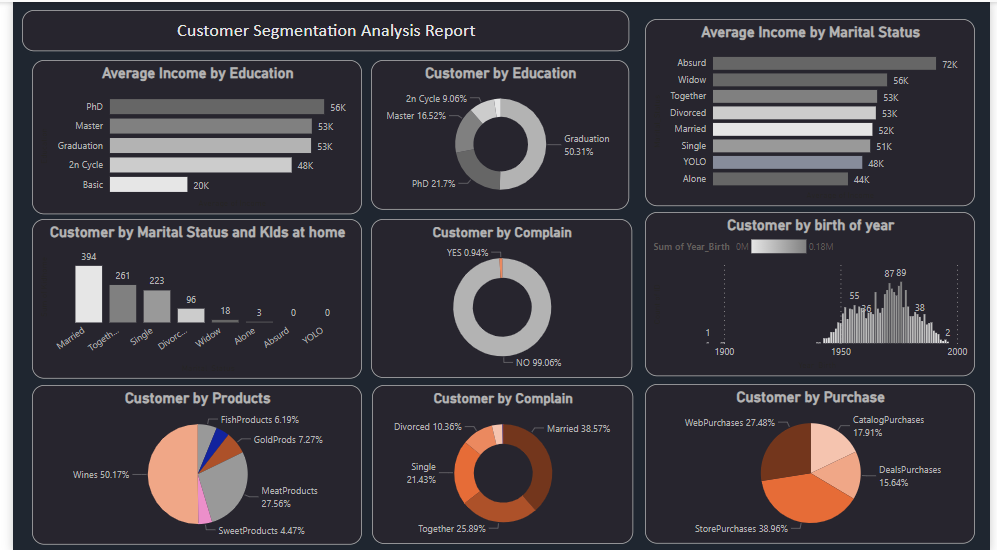

Layout of this report page (visuals, bound fields, positions):
{"tool":"powerbi","page":{"name":"Page 1","canvas":[1280,720],"ordinal":0},"visuals":[{"type":"donutChart","title":"Customer by Education","fields":{"Category":["marketing_campaign.Education"],"Y":["CountNonNull(marketing_campaign.ID)"]},"box":[468.7,75.9,337.7,196.4],"z":0},{"type":"clusteredBarChart","title":"Average Income by Marital Status","fields":{"Y":["Avg(marketing_campaign.Income)"],"Category":["marketing_campaign.Marital_Status"]},"box":[827.3,22.3,432,244.8],"z":1},{"type":"clusteredColumnChart","title":"Customer by birth of year","fields":{"Category":["marketing_campaign.Year_Birth"],"Y":["CountNonNull(marketing_campaign.ID)"]},"box":[827.3,274.9,432,214.7],"z":3},{"type":"clusteredColumnChart","title":"Customer by Marital Status and KIds at home","fields":{"Category":["marketing_campaign.Marital_Status"],"Y":["Sum(marketing_campaign.Kidhome)"]},"box":[24.9,284.1,432,209.5],"z":4},{"type":"clusteredBarChart","title":"Average Income by Education","fields":{"Category":["marketing_campaign.Education"],"Y":["Avg(marketing_campaign.Income)"]},"box":[24.9,75.9,432,201.6],"z":5},{"type":"donutChart","title":"Customer by Complain","fields":{"Y":["CountNonNull(marketing_campaign.ID)"],"Category":["marketing_campaign.Complain"]},"box":[468.7,284.1,341.7,208.1],"z":6},{"type":"pieChart","title":"Customer by Products","fields":{"Y":["Sum(marketing_campaign.MntFishProducts)","Sum(marketing_campaign.MntFruits)","Sum(marketing_campaign.MntGoldProds)","Sum(marketing_campaign.MntMeatProducts)","Sum(marketing_campaign.MntSweetProducts)","Sum(marketing_campaign.MntWines)"]},"box":[24.9,501.4,432,209.5],"z":7},{"type":"pieChart","title":"Customer by Purchase","fields":{"Y":["Sum(marketing_campaign.NumCatalogPurchases)","Sum(marketing_campaign.NumDealsPurchases)","Sum(marketing_campaign.NumStorePurchases)","Sum(marketing_campaign.NumWebPurchases)"]},"box":[827.3,500.1,432,209.5],"z":8},{"type":"donutChart","title":"Customer by Complain","fields":{"Y":["CountNonNull(marketing_campaign.ID)"],"Category":["marketing_campaign.Marital_Status"]},"box":[470,501.4,341.7,208.1],"z":9},{"type":"textbox","box":[11.8,10.5,794.6,53.7],"z":10}]}

Visuals, with their boxes in screenshot pixels (x1, y1, x2, y2), scaled from the page's 1280x720 canvas onto the 997x550 screenshot:
"Customer by Education" donutChart: (365, 58, 628, 208)
"Average Income by Marital Status" clusteredBarChart: (644, 17, 981, 204)
"Customer by birth of year" clusteredColumnChart: (644, 210, 981, 374)
"Customer by Marital Status and KIds at home" clusteredColumnChart: (19, 217, 356, 377)
"Average Income by Education" clusteredBarChart: (19, 58, 356, 212)
"Customer by Complain" donutChart: (365, 217, 631, 376)
"Customer by Products" pieChart: (19, 383, 356, 543)
"Customer by Purchase" pieChart: (644, 382, 981, 542)
"Customer by Complain" donutChart: (366, 383, 632, 542)
textbox: (9, 8, 628, 49)
